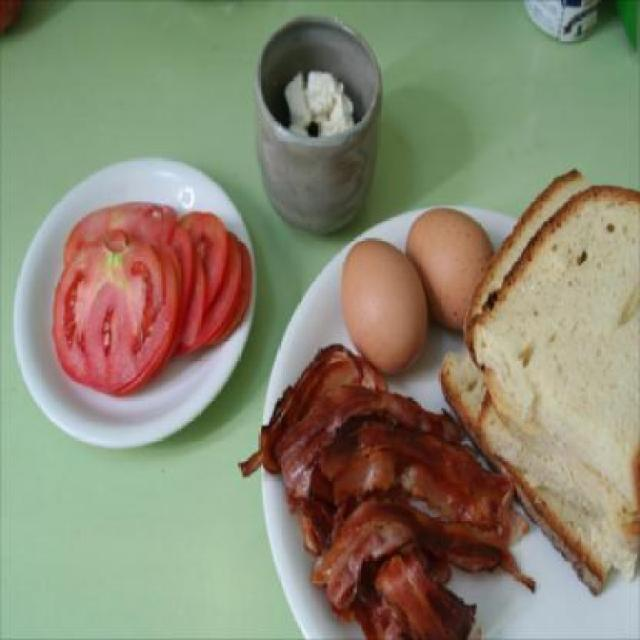Sandwich: (438, 166, 639, 602)
